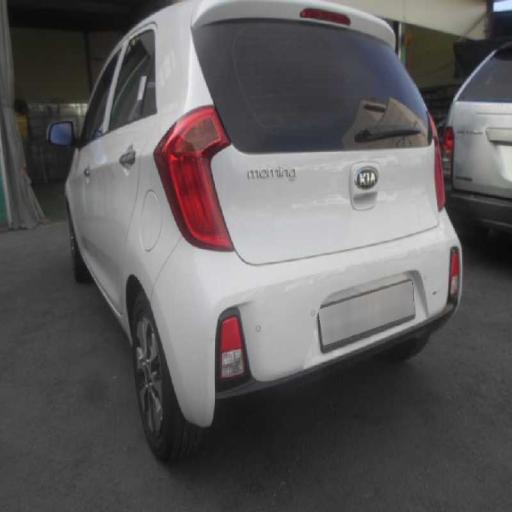dent: (212, 127, 429, 236)
